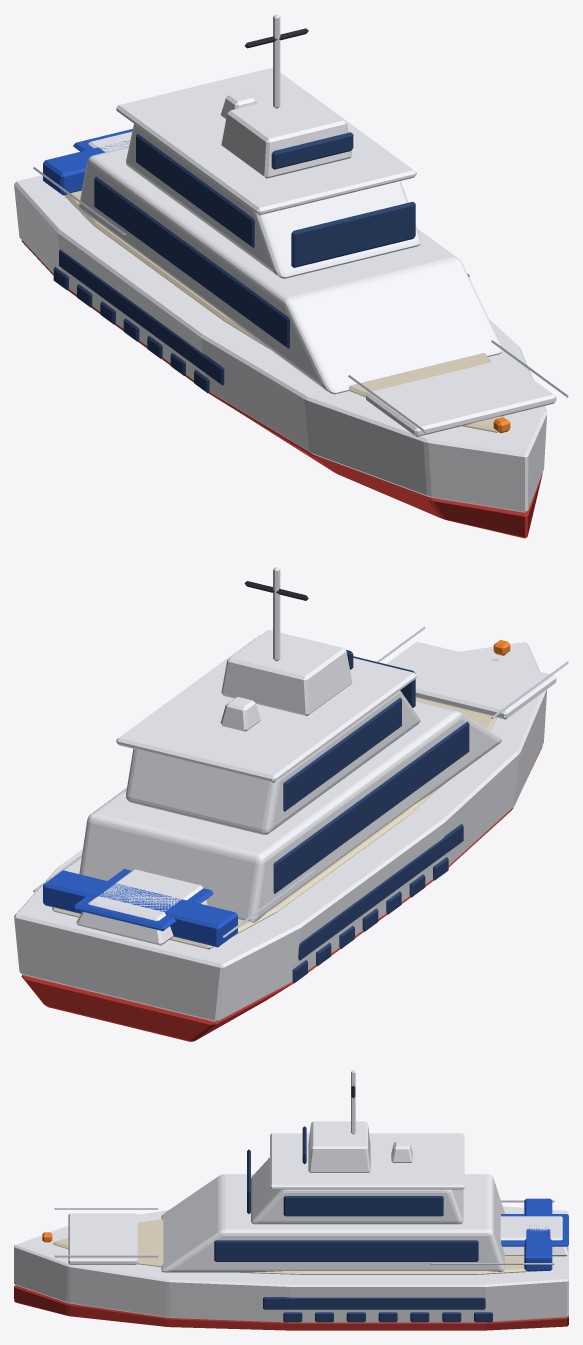
The model's file is yacht.glb.
3 views of the same model, one above another, from view 1: azimuth 30°, elevation 25°; view 2: azimuth 150°, elevation 25°; view 3: azimuth 270°, elevation 25° (orthographic). The views are drawn at different scales.
Visible parts, largest first — view 1: Yacht; view 2: Yacht; view 3: Yacht.
Boxes of the visible parts, <box> form: Yacht: <box>14,14,568,538</box>; Yacht: <box>14,567,568,1041</box>; Yacht: <box>14,1070,568,1330</box>.
Bounding box in the file's own units: 1.37 × 1.84 × 3.99.
1 material, 1 textured.
